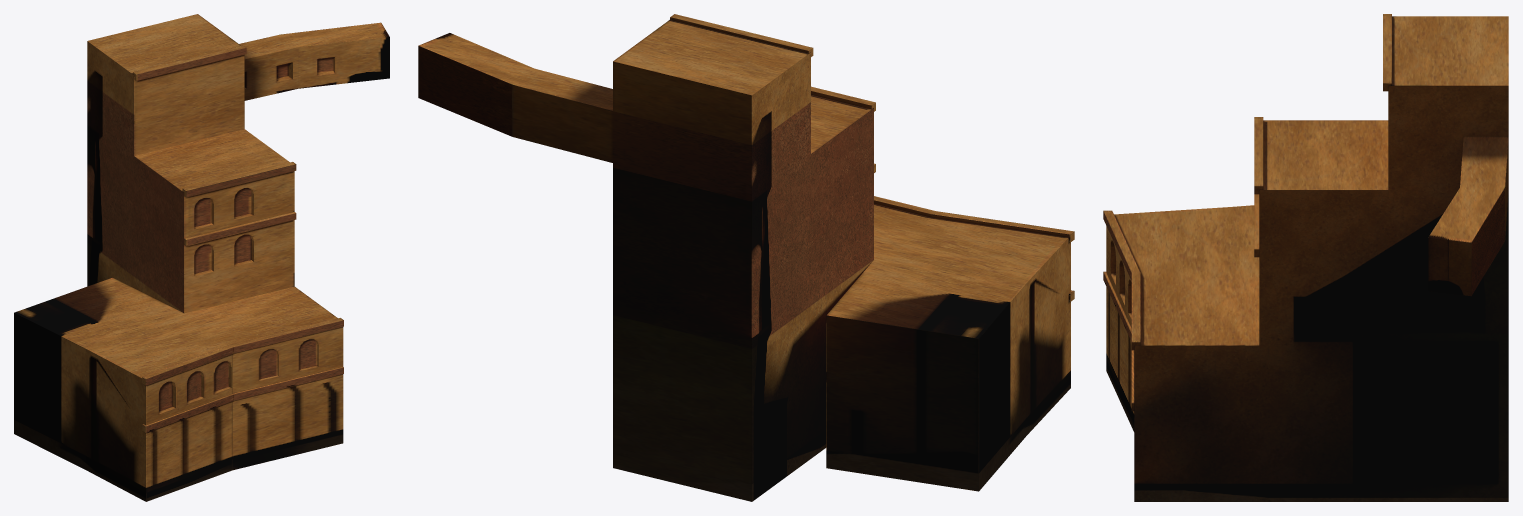
File: colera2finalFort.glb
3 views of the same model, side by side, from view 1: azimuth 30°, elevation 25°; view 2: azimuth 150°, elevation 25°; view 3: azimuth 270°, elevation 25° (orthographic). The views are drawn at different scales.
Visible parts, largest first — view 1: Cube.758; view 2: Cube.758; view 3: Cube.758.
Boxes of the visible parts, x1,y1,x2,y2 form: Cube.758: (14, 14, 389, 501); Cube.758: (418, 14, 1074, 501); Cube.758: (1103, 14, 1508, 501).
Bounding box in the file's own units: 134 × 103 × 90.11.
1 material, 1 textured.
